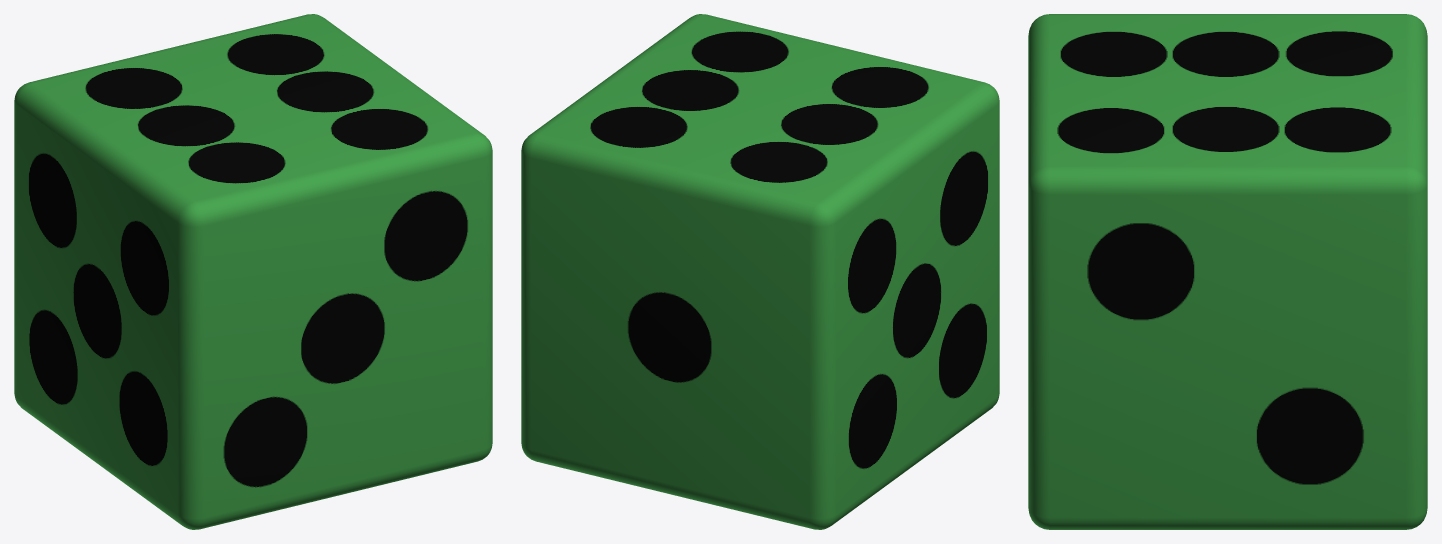
Rendered from simple_die.glb.gltf.
3 views of the same model, side by side, from view 1: azimuth 30°, elevation 25°; view 2: azimuth 150°, elevation 25°; view 3: azimuth 270°, elevation 25° (orthographic). The views are drawn at different scales.
Parts seen in each view (by area): view 1: Cube; view 2: Cube; view 3: Cube.
Boxes of the visible parts, x1,y1,x2,y2 form: Cube: (14, 14, 492, 529); Cube: (521, 14, 999, 529); Cube: (1028, 14, 1427, 529).
Bounding box in the file's own units: 20 × 20 × 20.
1 material, 1 textured.
